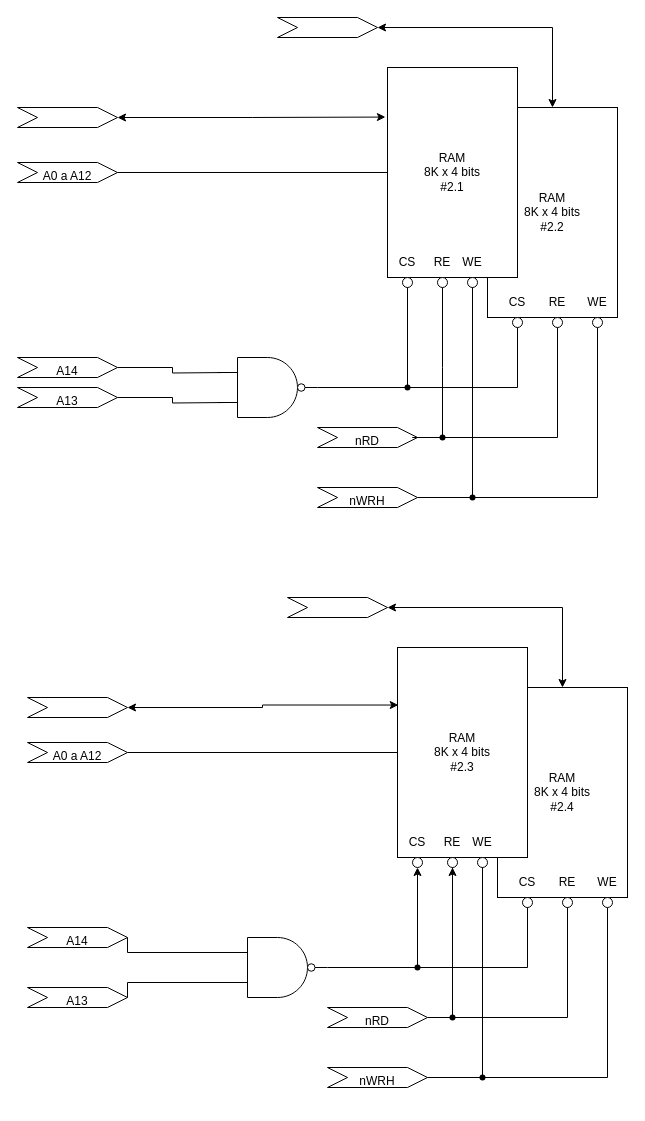
Some shapes in this 645 by 1121 pixel diagram are drawn without their labels. Each missing label, with the centre of its shape:
D0...3: (x=67, y=117)
D12...15: (x=337, y=607)
D4...7: (x=327, y=27)
D8...11: (x=77, y=707)
